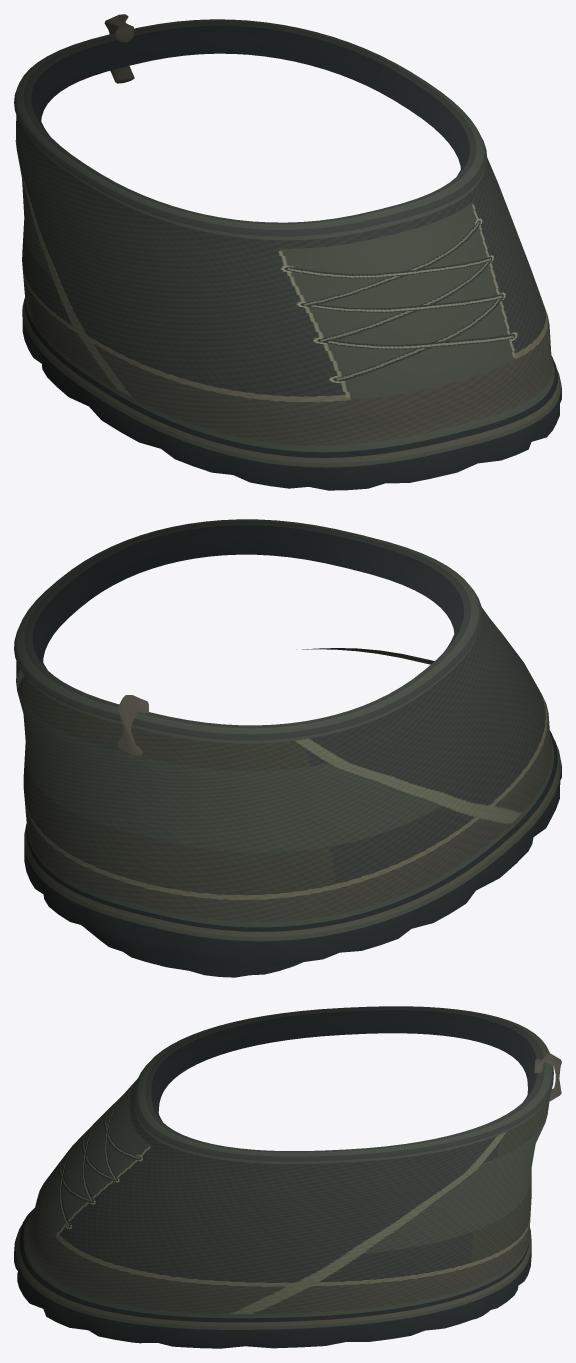
Rendered from wear-shoe-combat-boot.glb.
3 renders of one model, top to bottom at view 1: azimuth 30°, elevation 25°; view 2: azimuth 150°, elevation 25°; view 3: azimuth 270°, elevation 25°, orthographic. The views are drawn at different scales.
Visible parts, largest first — view 1: wear-shoe-combat-boot; view 2: wear-shoe-combat-boot; view 3: wear-shoe-combat-boot.
Boxes of the visible parts, left/top/right/bottom form: wear-shoe-combat-boot: left=14, top=14, right=561, bottom=490; wear-shoe-combat-boot: left=14, top=519, right=561, bottom=977; wear-shoe-combat-boot: left=14, top=1006, right=561, bottom=1348.
Bounding box in the file's own units: 0.2092 × 0.1409 × 0.2953.
Materials: 1 (1 with a texture image).
